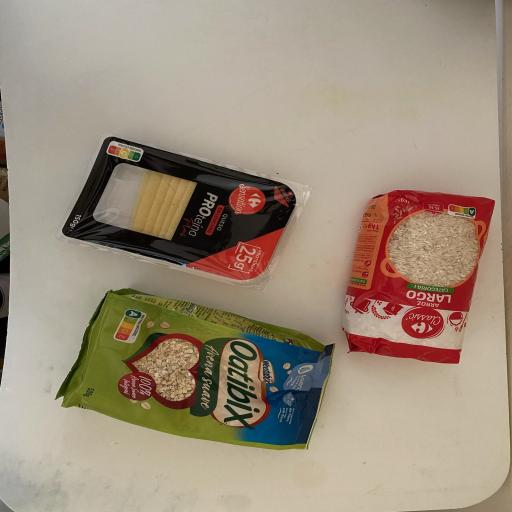cheese: (60, 132, 301, 286)
oat: (54, 284, 335, 454)
rice: (340, 187, 498, 367)
